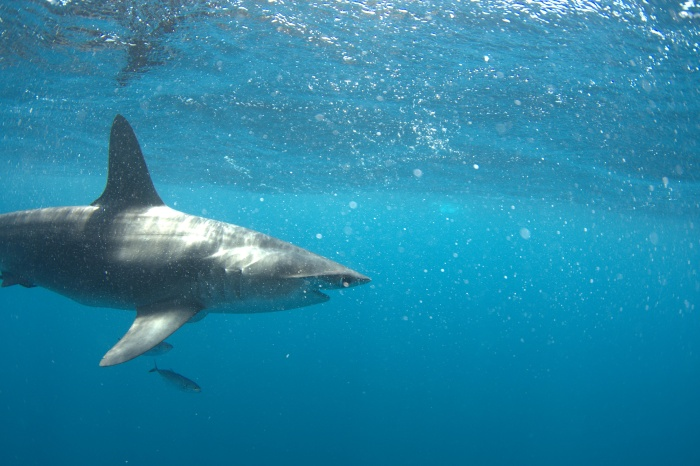Hammer: (1, 91, 398, 374)
